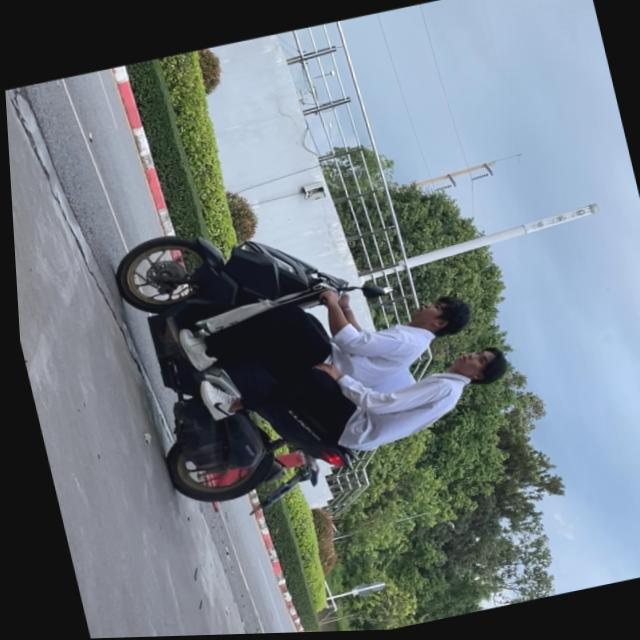seatbelt: (402, 291, 471, 347), (443, 345, 507, 393)
